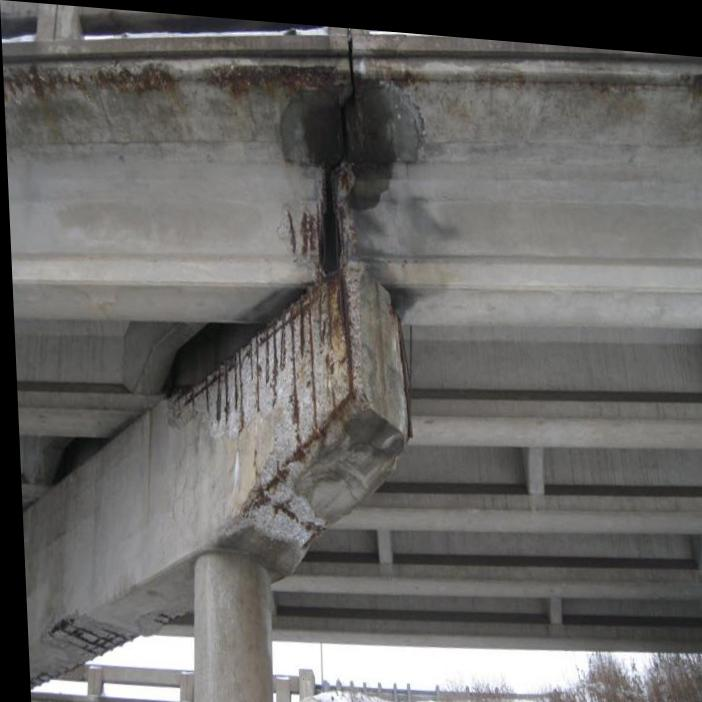crack: (317, 35, 354, 268)
